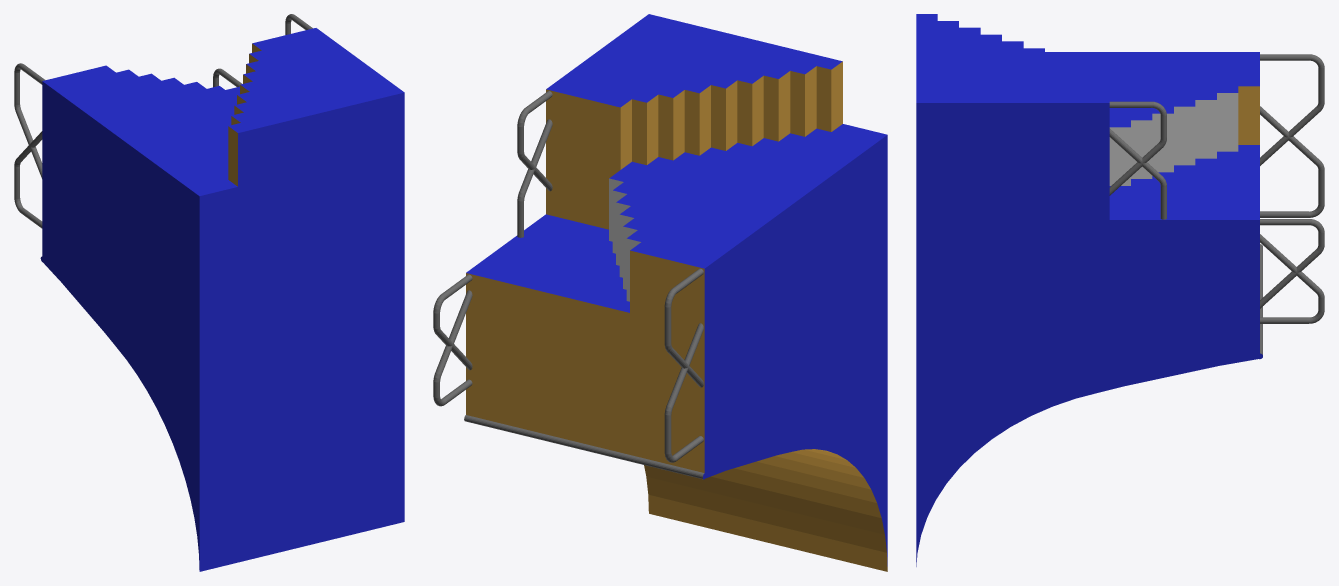
Rendered from Drop In Ramp Stairs Rear.fbx.
The picture shows the model from 3 angles, left to right: view 1: azimuth 30°, elevation 25°; view 2: azimuth 150°, elevation 25°; view 3: azimuth 270°, elevation 25°; orthographic projection. The views are drawn at different scales.
Visible parts, largest first — view 1: Drop In Ramp Stairs Rear; view 2: Drop In Ramp Stairs Rear; view 3: Drop In Ramp Stairs Rear.
Boxes of the visible parts, x1,y1,x2,y2 form: Drop In Ramp Stairs Rear: [14, 14, 404, 571]; Drop In Ramp Stairs Rear: [433, 14, 887, 571]; Drop In Ramp Stairs Rear: [916, 14, 1324, 566].
Size of the model in its own units: 1600 by 3200 by 2526.
